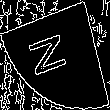N_E: (30, 29, 80, 81)
